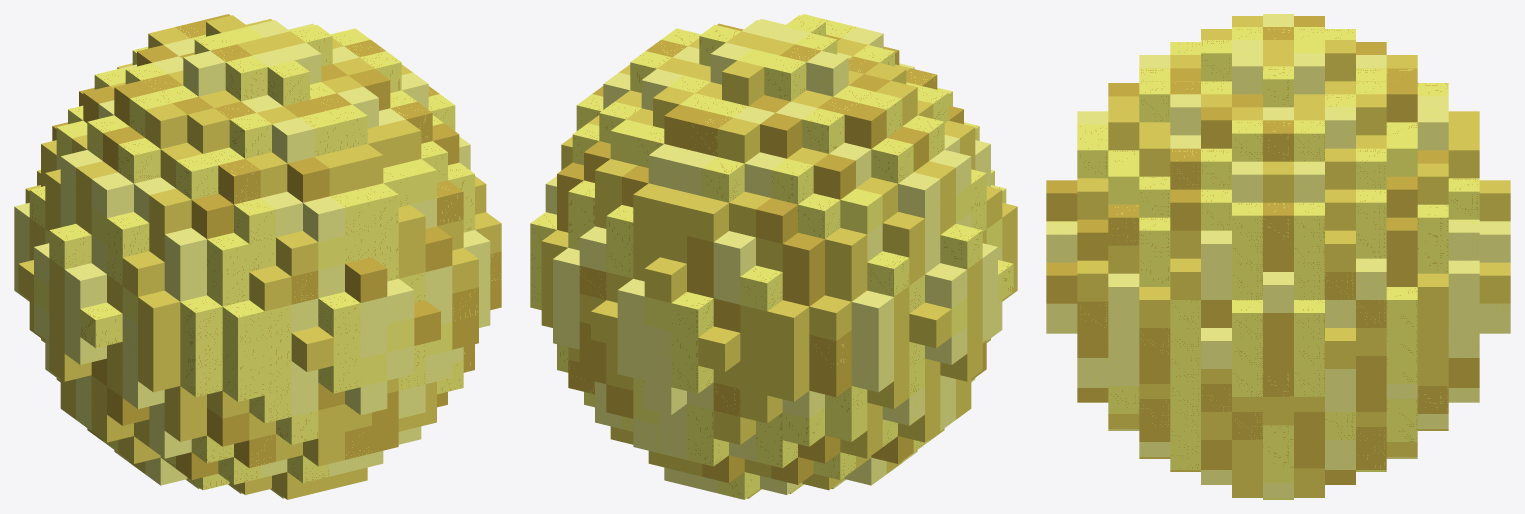
File: BAL1.obj
3 renders of one model, left to right at view 1: azimuth 30°, elevation 25°; view 2: azimuth 150°, elevation 25°; view 3: azimuth 270°, elevation 25°, orthographic.
Visible parts, largest first — view 1: Fireball; view 2: Fireball; view 3: Fireball.
Part boxes in pixels (x1,y1,x2,y2): Fireball: (14,14,501,499); Fireball: (530,14,1017,499); Fireball: (1046,14,1510,499).
Size of the model in its own units: 1 by 1 by 1.
Materials: 1 (1 with a texture image).
